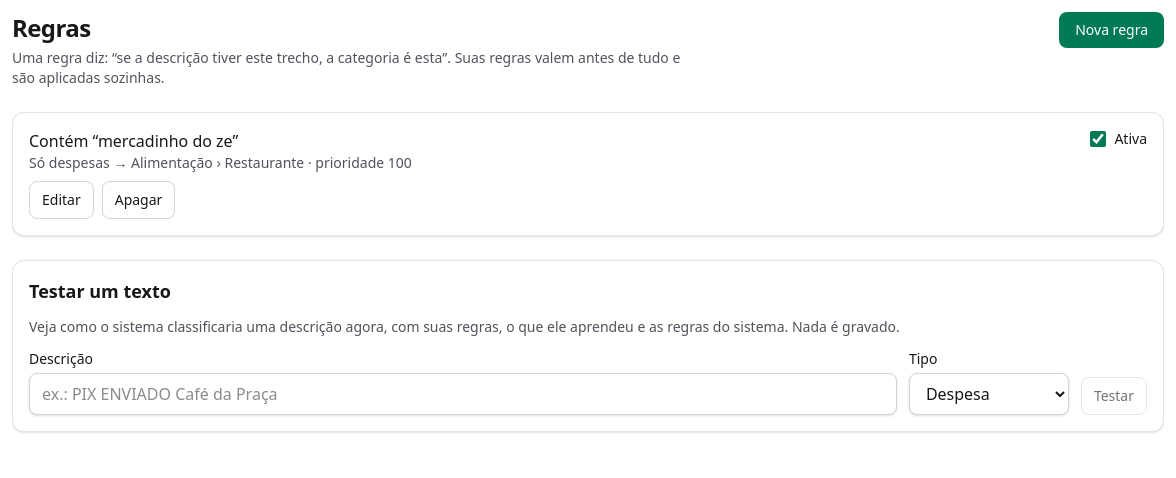
Test: RulesView › o interruptor muda na hora e volta ao estado do servidor se a API falhar
The image size is (1176, 478).
Later steps or results of the test are not shown.
Click the checkbox named "Regra mercadinho do ze ativa".
click(1098, 139)  # box [1090,131,1106,147]
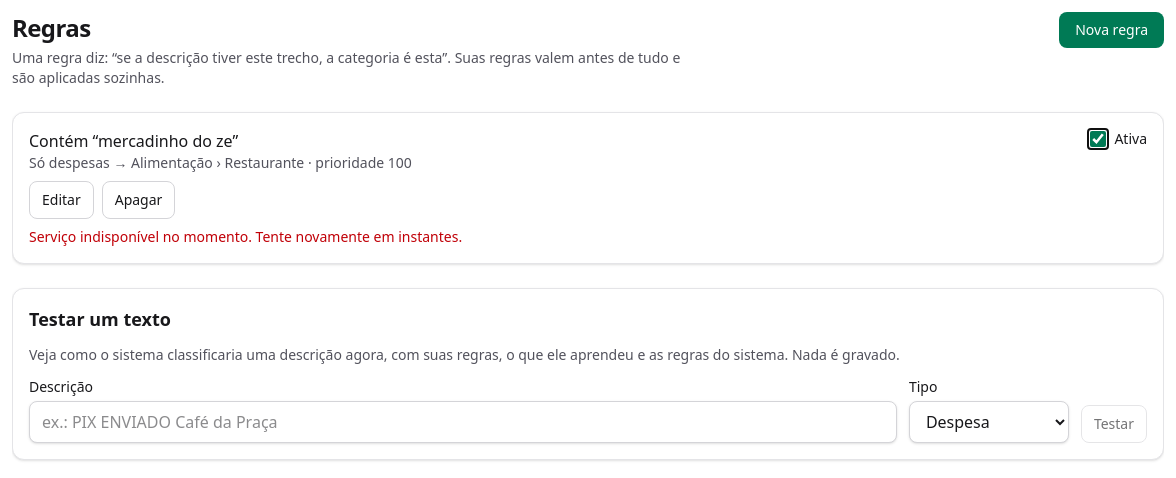
Now the message shows "Serviço indisponível", box [29,227,462,246]
